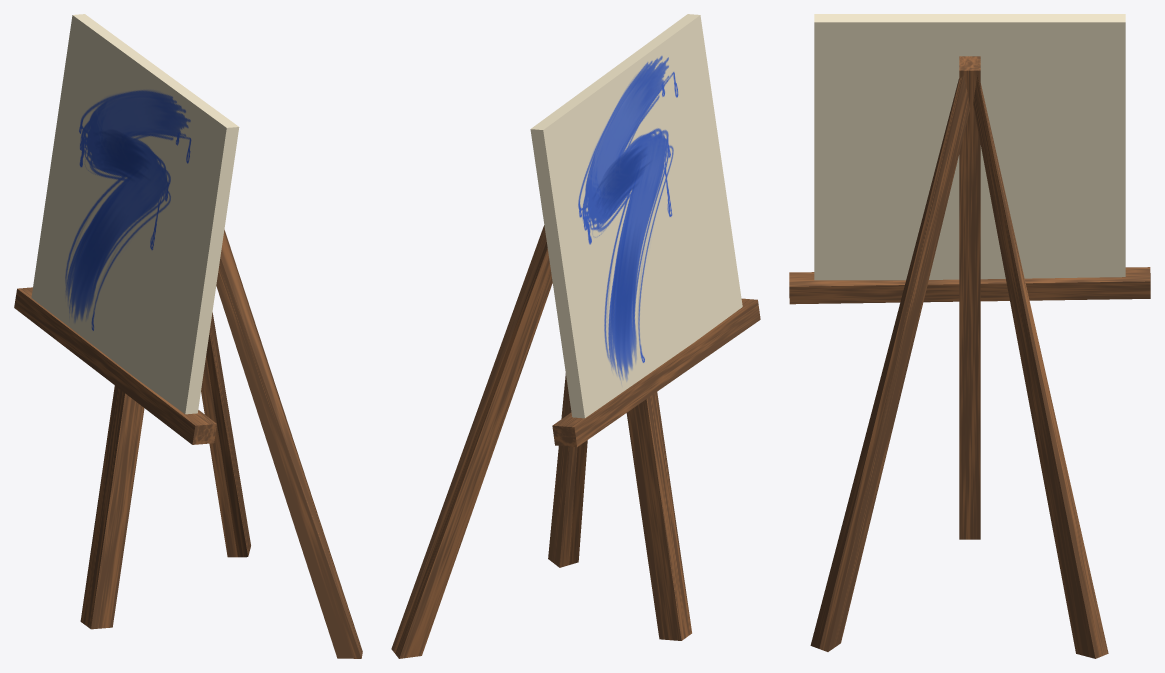
Rendered from easel.glb.
The picture shows the model from 3 angles, left to right: view 1: azimuth 30°, elevation 25°; view 2: azimuth 150°, elevation 25°; view 3: azimuth 270°, elevation 25°; orthographic projection.
Parts seen in each view (by area): view 1: Cube.004_2; view 2: Cube.004_2; view 3: Cube.004_2.
Part boxes in pixels (left/top/right/bottom): Cube.004_2: left=14, top=14, right=362, bottom=658; Cube.004_2: left=391, top=14, right=760, bottom=658; Cube.004_2: left=789, top=14, right=1150, bottom=658.
Size of the model in its own units: 1.95 by 4.6 by 2.65.
Materials: 1 (1 with a texture image).
